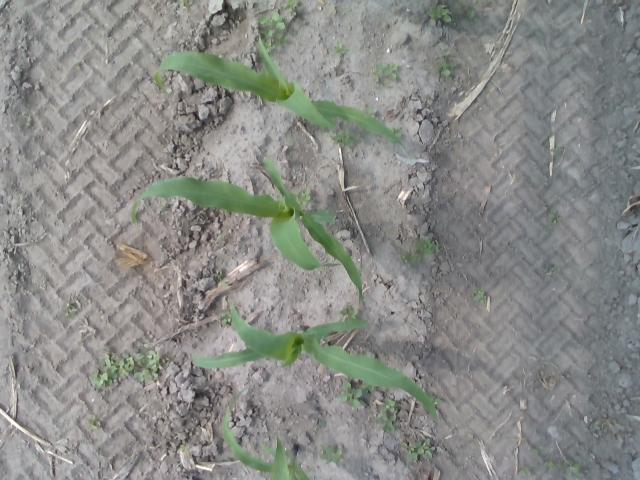Maize: (130, 155, 364, 307), (153, 34, 413, 158), (189, 302, 439, 422), (223, 385, 310, 480)
Weeds: (90, 354, 135, 385), (339, 379, 363, 408), (256, 13, 286, 35), (408, 439, 432, 461), (376, 408, 396, 432), (424, 5, 452, 22), (333, 130, 359, 146), (319, 446, 342, 462), (417, 239, 435, 253), (148, 350, 160, 371), (86, 415, 100, 431), (134, 370, 152, 382), (384, 64, 398, 78), (440, 60, 450, 76), (300, 189, 313, 201), (135, 352, 146, 366), (566, 462, 579, 473), (410, 253, 423, 263), (400, 442, 413, 452), (341, 304, 352, 315), (286, 0, 298, 10), (265, 40, 275, 52), (516, 466, 528, 476), (386, 400, 396, 412), (220, 312, 230, 324), (136, 341, 150, 349), (393, 128, 404, 137), (546, 264, 560, 271), (550, 210, 558, 222), (542, 460, 554, 468), (476, 289, 485, 299), (374, 77, 384, 86), (374, 64, 383, 74), (534, 445, 543, 454), (348, 310, 358, 318), (467, 10, 475, 19), (264, 30, 276, 36), (332, 45, 343, 51), (68, 305, 76, 313), (318, 421, 327, 428), (398, 254, 408, 260), (558, 147, 564, 153), (180, 444, 186, 450), (177, 0, 184, 5)
